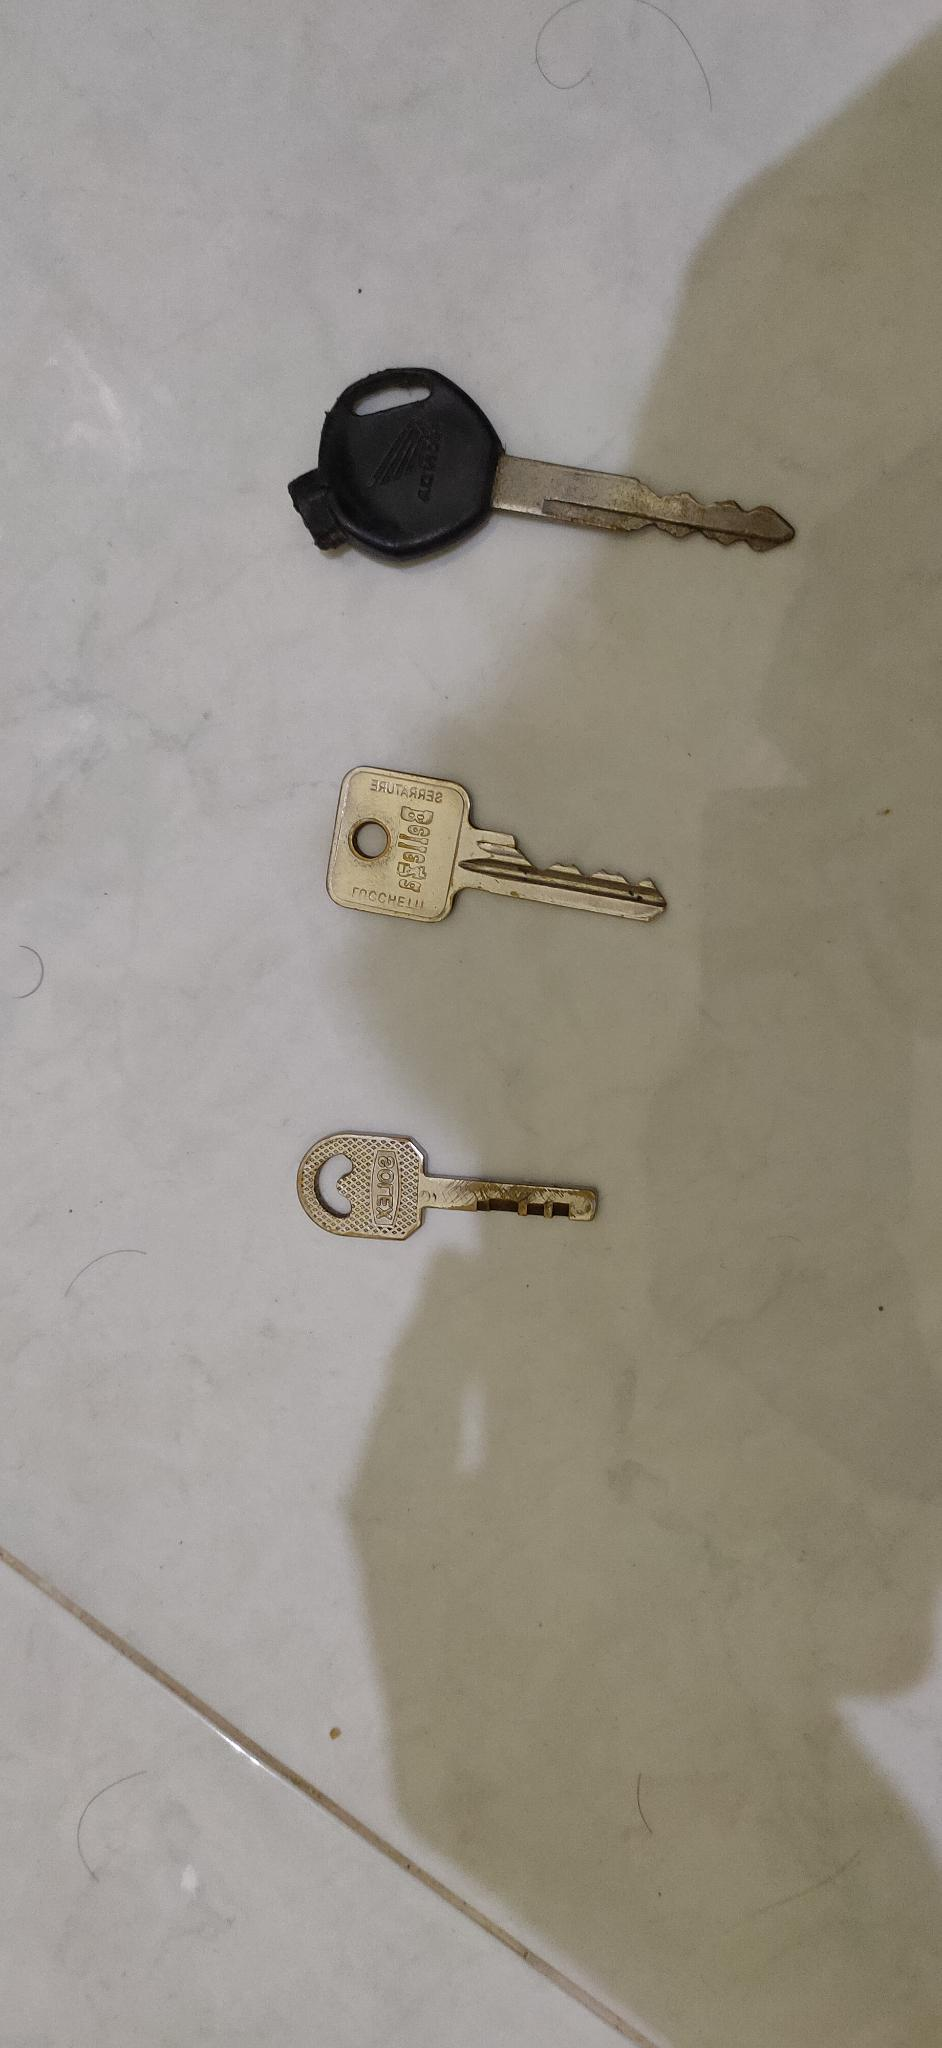keys: (270, 364, 804, 610), (307, 743, 686, 957), (281, 1108, 625, 1254)
